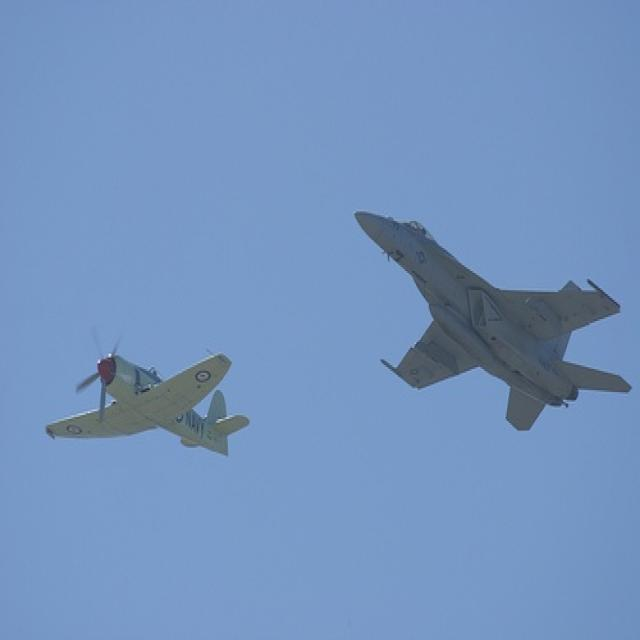aeroplane: (350, 206, 634, 434), (46, 344, 254, 456)
